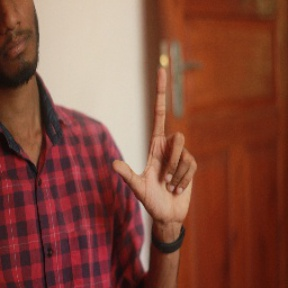L: (110, 68, 199, 215)
